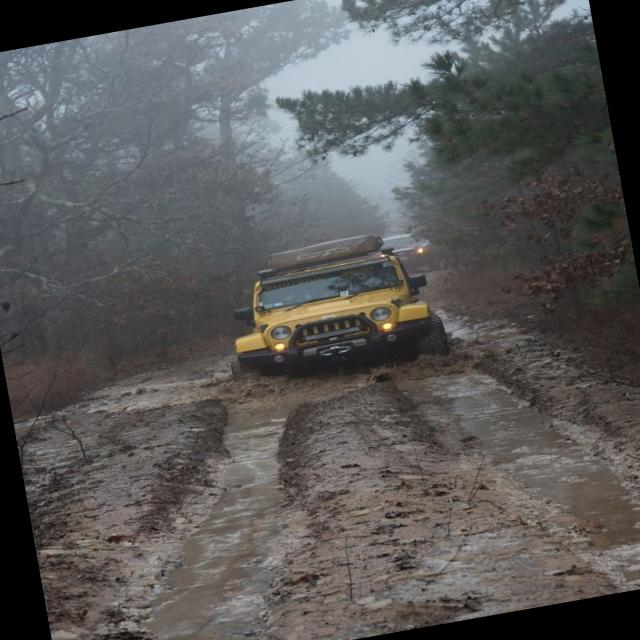red-sand: (14, 312, 640, 640)
